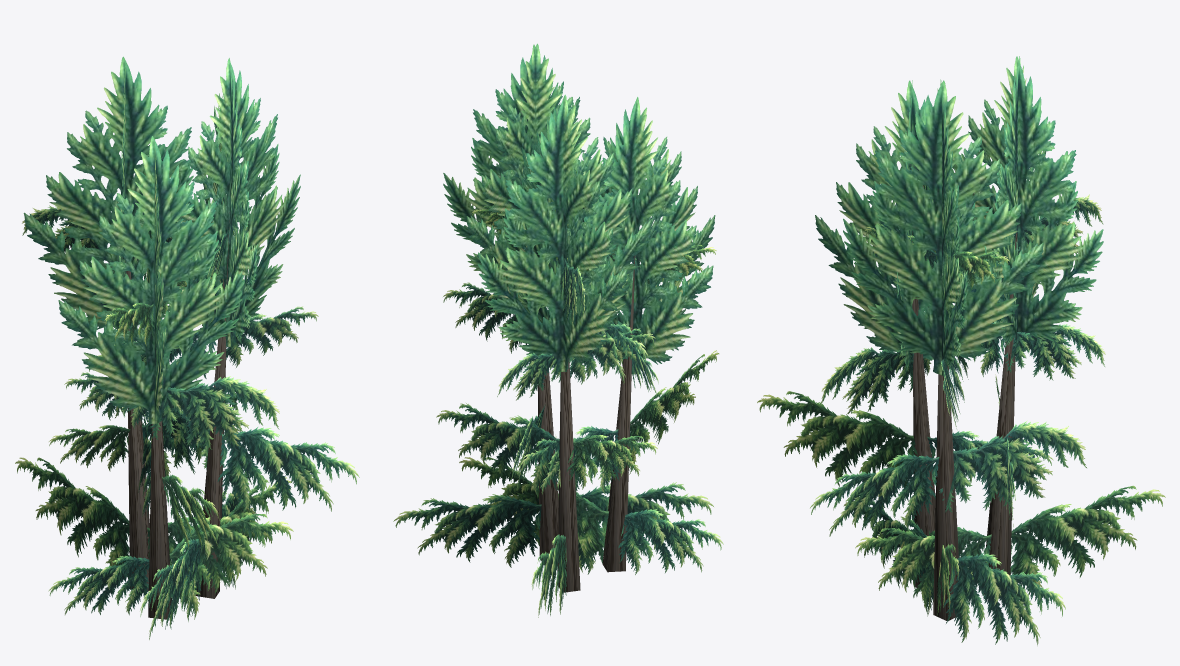
Rendered from shrub_upright.glb.
3 renders of one model, left to right at view 1: azimuth 30°, elevation 25°; view 2: azimuth 150°, elevation 25°; view 3: azimuth 270°, elevation 25°, orthographic. The views are drawn at different scales.
Parts seen in each view (by area): view 1: shrub_upright; view 2: shrub_upright; view 3: shrub_upright.
Part boxes in pixels (<box>): shrub_upright: <box>15,56,359,639</box>; shrub_upright: <box>393,43,723,617</box>; shrub_upright: <box>757,56,1165,645</box>.
Size of the model in its own units: 0.9188 by 1.73 by 1.13.
Materials: 2 (2 with a texture image).
